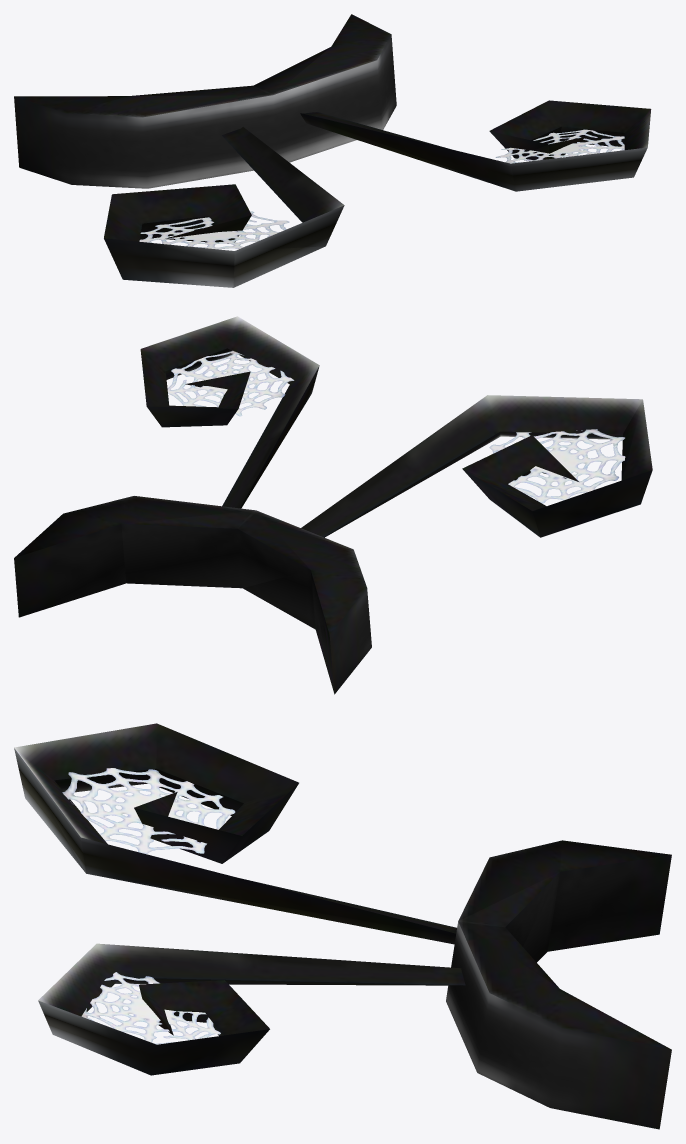
The model's file is tt_m_chr_avt_acc_hat_spiderAntennaThingy.glb.
3 renders of one model, top to bottom at view 1: azimuth 30°, elevation 25°; view 2: azimuth 150°, elevation 25°; view 3: azimuth 270°, elevation 25°, orthographic. The views are drawn at different scales.
Visible parts, largest first — view 1: tt_m_chr_avt_acc_hat_spiderAntennaThingy; view 2: tt_m_chr_avt_acc_hat_spiderAntennaThingy; view 3: tt_m_chr_avt_acc_hat_spiderAntennaThingy.
Boxes of the visible parts, x1=… form: tt_m_chr_avt_acc_hat_spiderAntennaThingy: x1=14, y1=14, x2=651, y2=287; tt_m_chr_avt_acc_hat_spiderAntennaThingy: x1=14, y1=316, x2=652, y2=694; tt_m_chr_avt_acc_hat_spiderAntennaThingy: x1=14, y1=723, x2=671, y2=1129.
Bounding box in the file's own units: 4.02 × 0.9131 × 3.53.
1 material, 1 textured.
